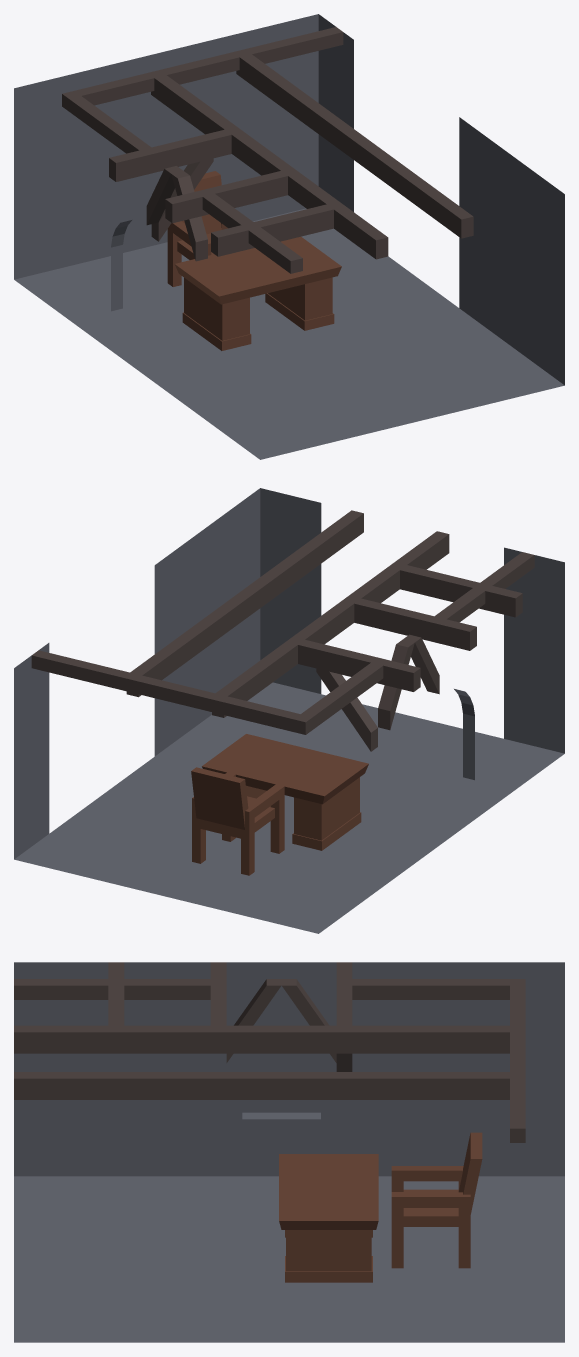
File: study_alcove_collider.gltf
The picture shows the model from 3 angles, top to bottom: view 1: azimuth 30°, elevation 25°; view 2: azimuth 150°, elevation 25°; view 3: azimuth 270°, elevation 25°; orthographic projection. The views are drawn at different scales.
Visible parts, largest first — view 1: Walls, CeilingBars, Table, Chair; view 2: Walls, CeilingBars, Table, Chair; view 3: Walls, CeilingBars, Table, Chair.
Part boxes in pixels (x1,y1,x2,y2): Walls: [14, 14, 564, 459]; CeilingBars: [62, 27, 473, 273]; Table: [175, 236, 341, 350]; Chair: [167, 171, 227, 286]; Walls: [14, 488, 564, 933]; CeilingBars: [31, 510, 534, 751]; Table: [202, 734, 368, 850]; Chair: [191, 767, 284, 875]; Walls: [14, 962, 564, 1342]; CeilingBars: [14, 962, 525, 1142]; Table: [279, 1154, 378, 1282]; Chair: [391, 1132, 482, 1268].
Size of what is drawn, in the model's own units: 5.2 by 3 by 7.
